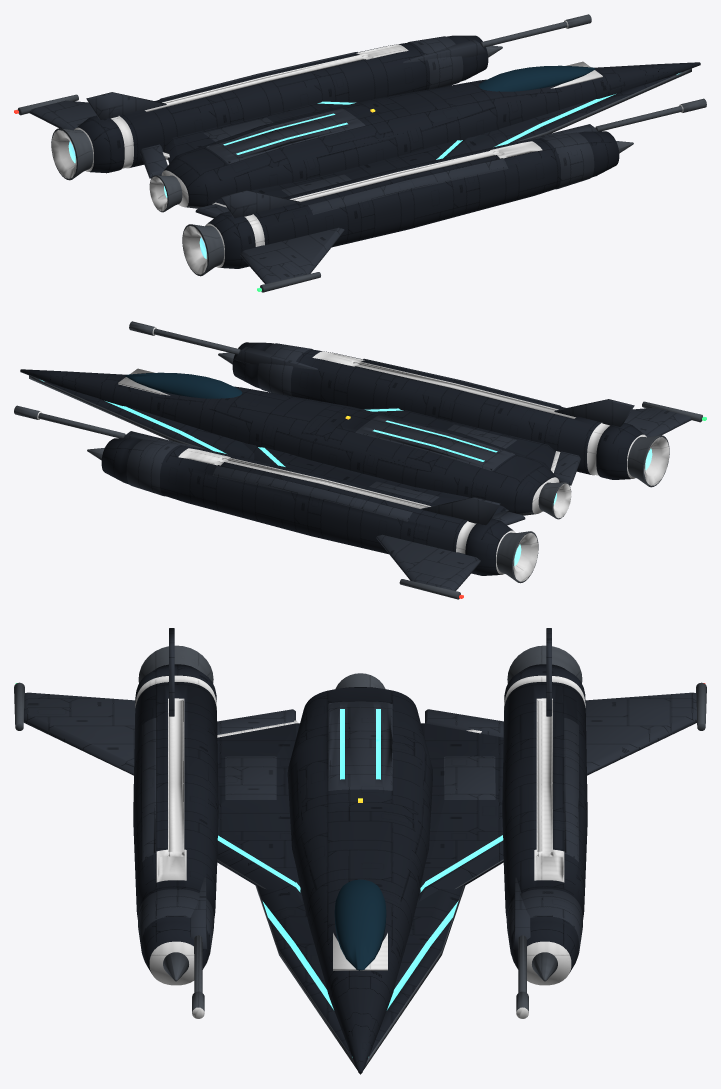
Rendered from wasp_production_v1_lod2.glb.
3 views of the same model, one above another, from view 1: azimuth 30°, elevation 25°; view 2: azimuth 150°, elevation 25°; view 3: azimuth 270°, elevation 25° (orthographic). The views are drawn at different scales.
Visible parts, largest first — view 1: LOD0_Hull, LOD0_Armor, LOD0_MechanicalDark, LOD0_MOTION_WASP_WINGLET_S_Armor, LOD0_Mechanical, LOD0_CANOPY, LOD0_MOTION_WASP_GUNS_Mechanical, LOD0_MOTION_WASP_WINGLET_P_Armor, LOD0_Lights_Cyan, LOD0_MOTION_WASP_WINGLET_P_HOOK_SECONDARY_FIN_Armor, LOD0_MOTION_WASP_GUNS_Armor, LOD0_HOOK_ARMOR_FLAP_Armor (+1 smaller); view 2: LOD0_Hull, LOD0_Armor, LOD0_MechanicalDark, LOD0_Mechanical, LOD0_MOTION_WASP_WINGLET_P_Armor, LOD0_MOTION_WASP_WINGLET_S_Armor, LOD0_CANOPY, LOD0_MOTION_WASP_GUNS_Mechanical, LOD0_Lights_Cyan, LOD0_MOTION_WASP_WINGLET_P_HOOK_SECONDARY_FIN_Armor, LOD0_MOTION_WASP_GUNS_Armor, LOD0_MOTION_WASP_WINGLET_P_Mechanical; view 3: LOD0_Hull, LOD0_Armor, LOD0_MechanicalDark, LOD0_MOTION_WASP_WINGLET_S_Armor, LOD0_MOTION_WASP_WINGLET_P_Armor, LOD0_Mechanical, LOD0_CANOPY, LOD0_Lights_Cyan, LOD0_MOTION_WASP_GUNS_Armor, LOD0_MOTION_WASP_GUNS_Mechanical, LOD0_HOOK_ARMOR_FLAP_Armor.
Part boxes in pixels (x1=…): LOD0_Hull: x1=76, y1=35, x2=700, y2=268; LOD0_Armor: x1=159, y1=36, x2=594, y2=218; LOD0_MechanicalDark: x1=51, y1=44, x2=602, y2=274; LOD0_MOTION_WASP_WINGLET_S_Armor: x1=220, y1=190, x2=344, y2=283; LOD0_Mechanical: x1=51, y1=45, x2=700, y2=276; LOD0_CANOPY: x1=479, y1=65, x2=595, y2=91; LOD0_MOTION_WASP_GUNS_Mechanical: x1=480, y1=14, x2=706, y2=131; LOD0_MOTION_WASP_WINGLET_P_Armor: x1=29, y1=100, x2=96, y2=130; LOD0_Lights_Cyan: x1=223, y1=73, x2=679, y2=159; LOD0_MOTION_WASP_WINGLET_P_HOOK_SECONDARY_FIN_Armor: x1=86, y1=92, x2=166, y2=119; LOD0_MOTION_WASP_GUNS_Armor: x1=403, y1=39, x2=597, y2=142; LOD0_HOOK_ARMOR_FLAP_Armor: x1=140, y1=144, x2=167, y2=178; LOD0_Hull: x1=20, y1=342, x2=644, y2=575; LOD0_Armor: x1=126, y1=343, x2=580, y2=521; LOD0_MechanicalDark: x1=118, y1=351, x2=669, y2=581; LOD0_Mechanical: x1=20, y1=352, x2=669, y2=583; LOD0_MOTION_WASP_WINGLET_P_Armor: x1=376, y1=534, x2=480, y2=590; LOD0_MOTION_WASP_WINGLET_S_Armor: x1=554, y1=399, x2=691, y2=437; LOD0_CANOPY: x1=125, y1=372, x2=242, y2=398; LOD0_MOTION_WASP_GUNS_Mechanical: x1=14, y1=321, x2=240, y2=438; LOD0_Lights_Cyan: x1=41, y1=380, x2=497, y2=466; LOD0_MOTION_WASP_WINGLET_P_HOOK_SECONDARY_FIN_Armor: x1=421, y1=497, x2=500, y2=525; LOD0_MOTION_WASP_GUNS_Armor: x1=123, y1=346, x2=317, y2=449; LOD0_MOTION_WASP_WINGLET_P_Mechanical: x1=399, y1=579, x2=460, y2=599; LOD0_Hull: x1=133, y1=664, x2=587, y2=1073; LOD0_Armor: x1=138, y1=701, x2=582, y2=956; LOD0_MechanicalDark: x1=135, y1=675, x2=585, y2=985; LOD0_MOTION_WASP_WINGLET_S_Armor: x1=24, y1=628, x2=174, y2=775; LOD0_MOTION_WASP_WINGLET_P_Armor: x1=585, y1=692, x2=696, y2=775; LOD0_Mechanical: x1=138, y1=645, x2=582, y2=1074; LOD0_CANOPY: x1=334, y1=879, x2=386, y2=970; LOD0_Lights_Cyan: x1=217, y1=709, x2=503, y2=1057; LOD0_MOTION_WASP_GUNS_Armor: x1=190, y1=877, x2=530, y2=949; LOD0_MOTION_WASP_GUNS_Mechanical: x1=192, y1=935, x2=528, y2=1012; LOD0_HOOK_ARMOR_FLAP_Armor: x1=425, y1=709, x2=503, y2=737.
Size of what is drawn, in the model's own units: 21.62 by 2.65 by 16.16.
Materials: 10 (4 with a texture image).
